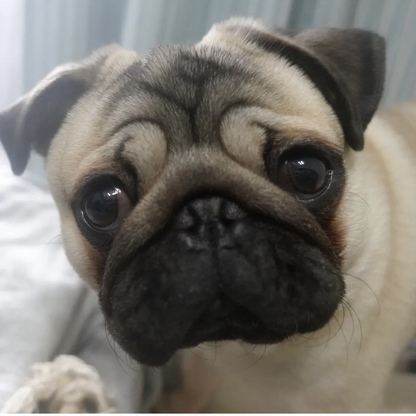Pug: (1, 8, 416, 416)
